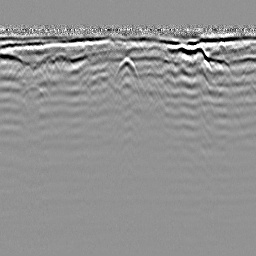cavity: (114, 54, 143, 86)
